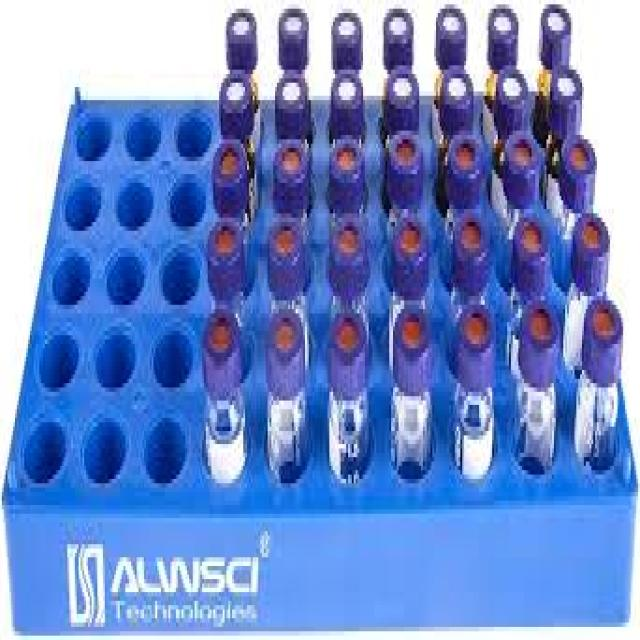vial: (330, 306, 370, 374), (522, 308, 559, 376), (394, 310, 432, 376), (514, 212, 549, 280), (206, 305, 239, 377), (267, 310, 305, 372), (207, 219, 248, 276), (501, 136, 545, 189), (269, 216, 306, 279), (457, 305, 496, 363), (446, 136, 486, 189), (388, 129, 426, 183), (393, 214, 430, 269), (274, 134, 310, 187), (588, 299, 620, 356), (332, 134, 364, 191), (214, 142, 248, 194), (454, 218, 486, 272), (332, 216, 365, 268), (540, 4, 573, 56), (278, 69, 313, 118), (552, 67, 584, 116), (222, 69, 254, 118), (444, 67, 478, 113), (575, 220, 608, 266), (332, 73, 368, 114), (567, 136, 596, 185), (500, 67, 529, 114), (489, 5, 518, 49), (388, 69, 421, 107), (228, 5, 258, 46), (436, 4, 465, 45), (334, 9, 366, 45), (385, 9, 417, 45), (275, 5, 307, 40)
